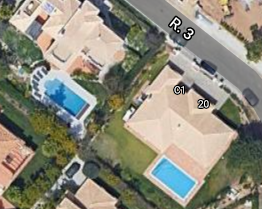pool: (155, 161, 192, 192), (46, 83, 80, 113)
